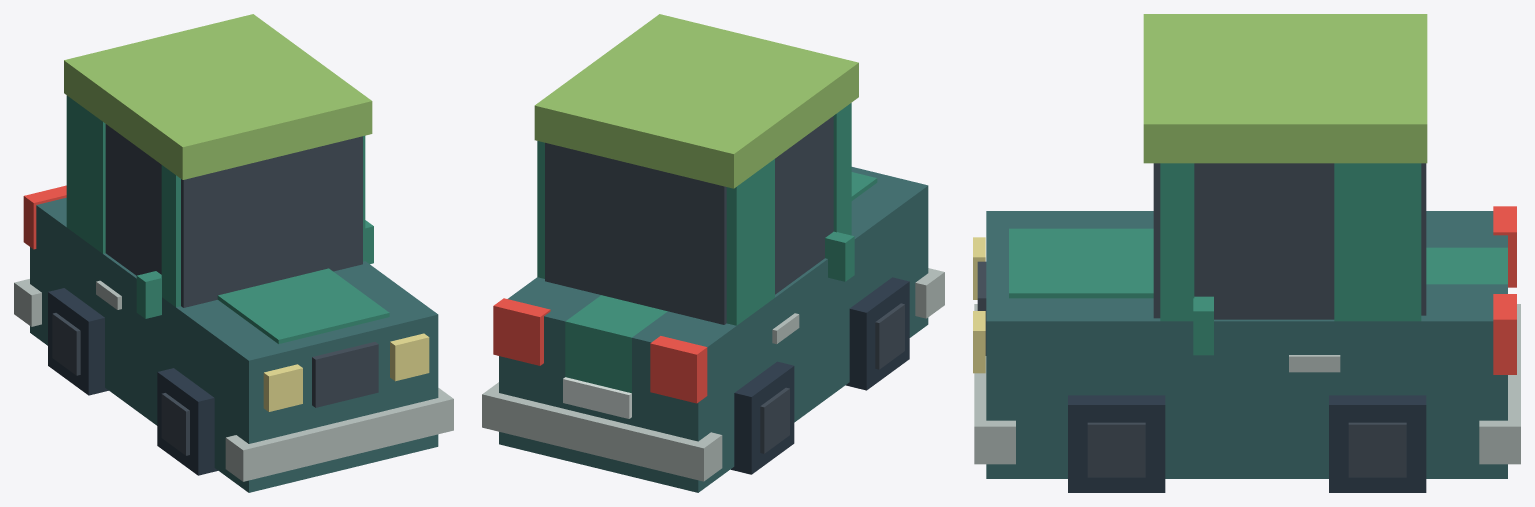
The model's file is Car_Green.fbx.
3 views of the same model, side by side, from view 1: azimuth 30°, elevation 25°; view 2: azimuth 150°, elevation 25°; view 3: azimuth 270°, elevation 25° (orthographic). The views are drawn at different scales.
Visible parts, largest first — view 1: polySurface98; view 2: polySurface98; view 3: polySurface98.
Boxes of the visible parts, box(x1,y1,x2,y2) form: polySurface98: box(14, 14, 453, 492); polySurface98: box(482, 14, 944, 492); polySurface98: box(973, 14, 1520, 492).
Size of the model in its own units: 3.68 by 4.56 by 6.3.
